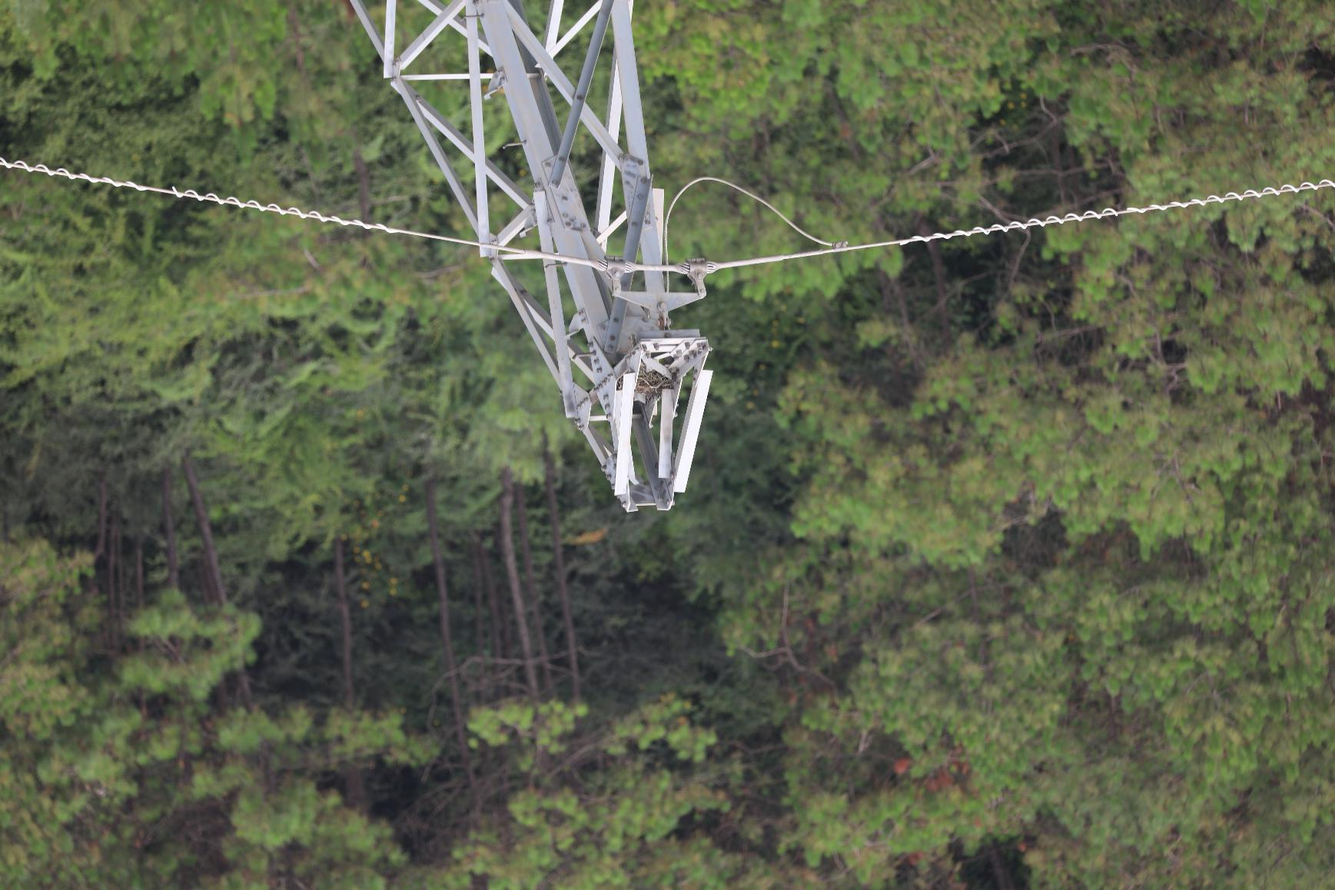nest: (633, 364, 672, 399)
